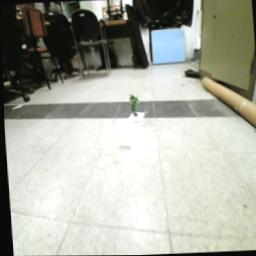herb: (127, 92, 143, 121)
